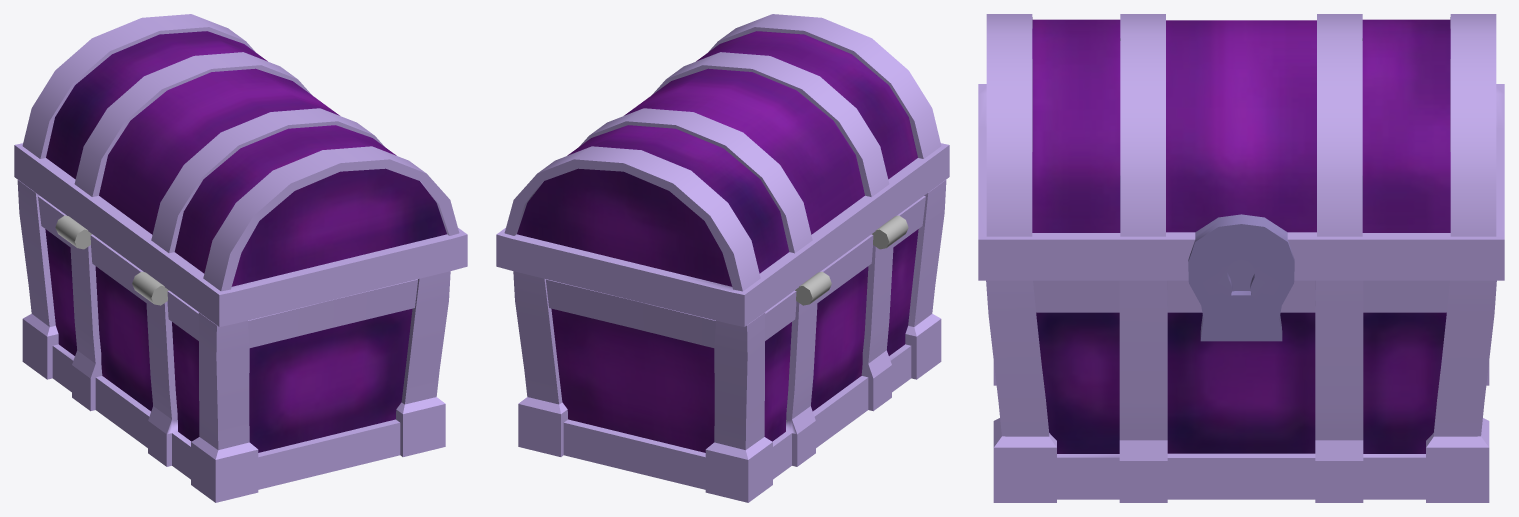
The model's file is chest.glb.
The picture shows the model from 3 angles, left to right: view 1: azimuth 30°, elevation 25°; view 2: azimuth 150°, elevation 25°; view 3: azimuth 270°, elevation 25°; orthographic projection. The views are drawn at different scales.
Visible parts, largest first — view 1: Chest_Top, Chest_Bottom_MetalMAT_0, Chest_Bottom_woodMAT_0, Chest_Bottom_coinsithinkMAT_0; view 2: Chest_Top, Chest_Bottom_MetalMAT_0, Chest_Bottom_woodMAT_0, Chest_Bottom_coinsithinkMAT_0; view 3: Chest_Top, Chest_Bottom_MetalMAT_0, Chest_Bottom_woodMAT_0.
Part boxes in pixels (<box>): Chest_Top: <box>14,14,467,326</box>; Chest_Bottom_MetalMAT_0: <box>17,180,450,502</box>; Chest_Bottom_woodMAT_0: <box>45,229,412,452</box>; Chest_Bottom_coinsithinkMAT_0: <box>55,215,168,305</box>; Chest_Top: <box>496,14,949,326</box>; Chest_Bottom_MetalMAT_0: <box>513,180,946,502</box>; Chest_Bottom_woodMAT_0: <box>551,229,918,452</box>; Chest_Bottom_coinsithinkMAT_0: <box>795,215,908,305</box>; Chest_Top: <box>978,14,1504,341</box>; Chest_Bottom_MetalMAT_0: <box>986,280,1496,502</box>; Chest_Bottom_woodMAT_0: <box>1036,312,1446,453</box>.
Bounding box in the file's own units: 2.63 × 2.95 × 3.51.
Materials: 5 (1 with a texture image).
